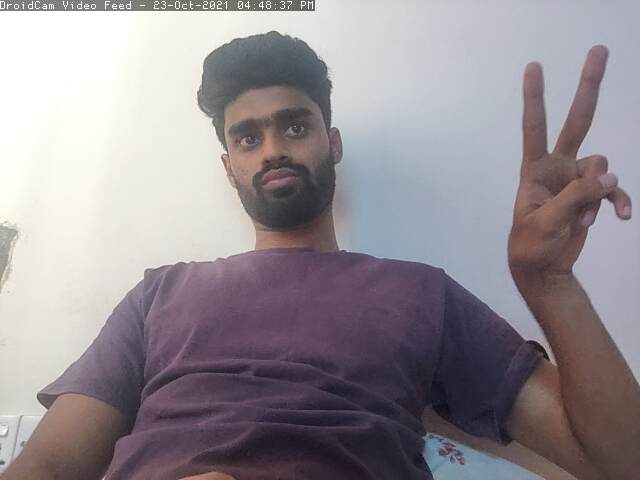Victory: (511, 42, 637, 284)
